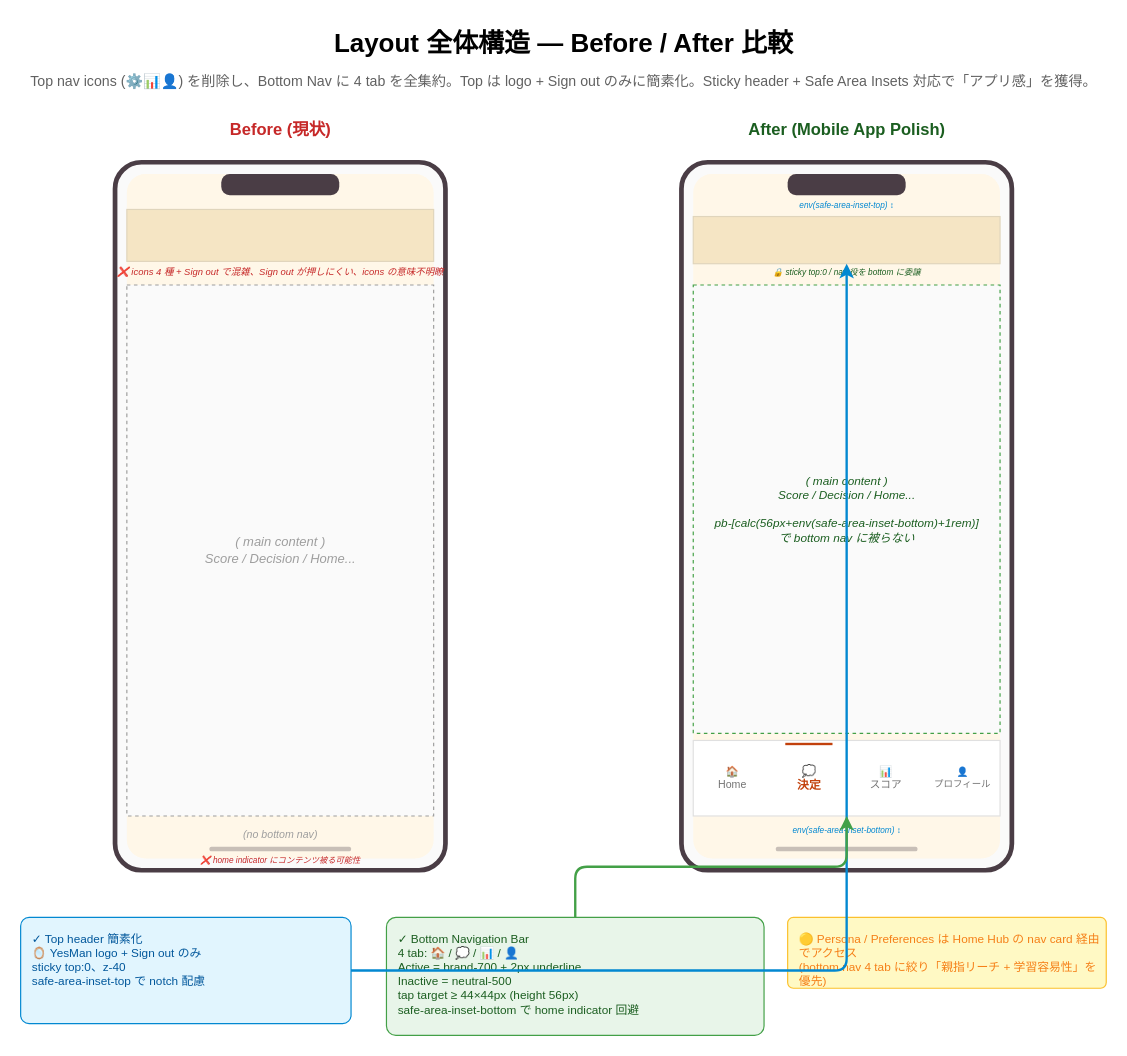
Image size: 1127x1056. Some labels were removed from this diagram. Here are the shapes that lost their labels. From the top down, the centre of each, then its label:
At [280,234]: "🪞 YesMan ⚙️ 📊 👤 Sign out".
At [846,239]: "🪞 YesMan Sign out".
